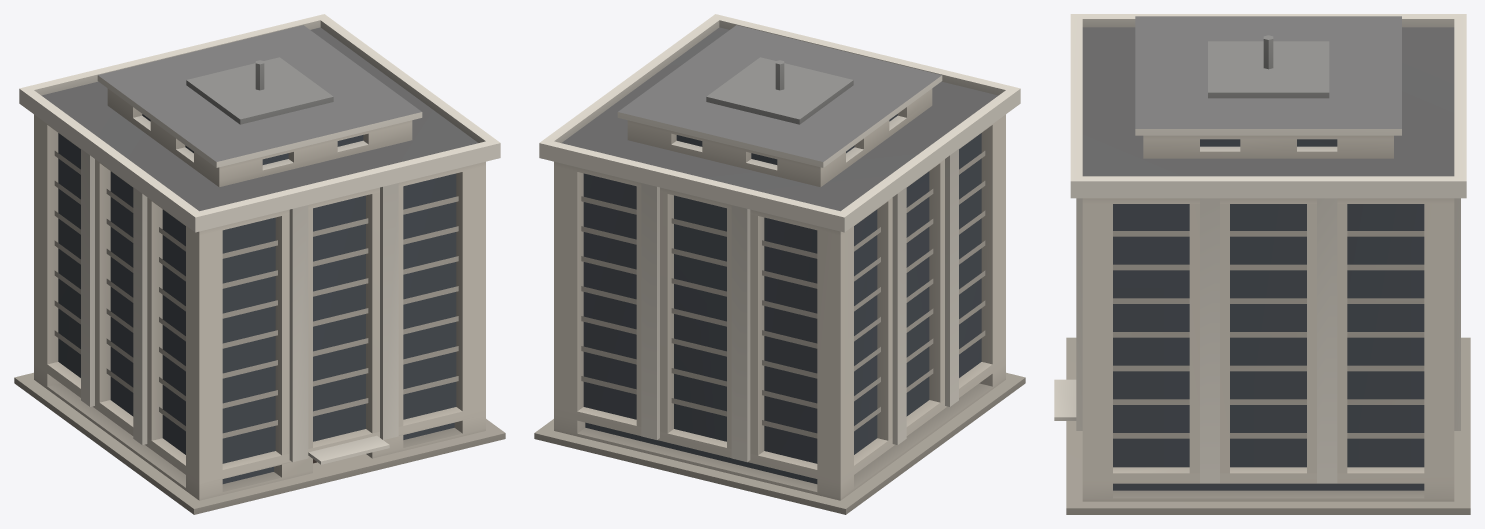
The model's file is building-tower-crown.glb.
3 renders of one model, left to right at view 1: azimuth 30°, elevation 25°; view 2: azimuth 150°, elevation 25°; view 3: azimuth 270°, elevation 25°, orthographic. The views are drawn at different scales.
Visible parts, largest first — view 1: Building; view 2: Building; view 3: Building.
Part boxes in pixels (x1,y1,x2,y2): Building: (14,14,505,514); Building: (534,14,1025,514); Building: (1054,14,1470,514).
Bounding box in the file's own units: 1 × 1.07 × 1.03.
